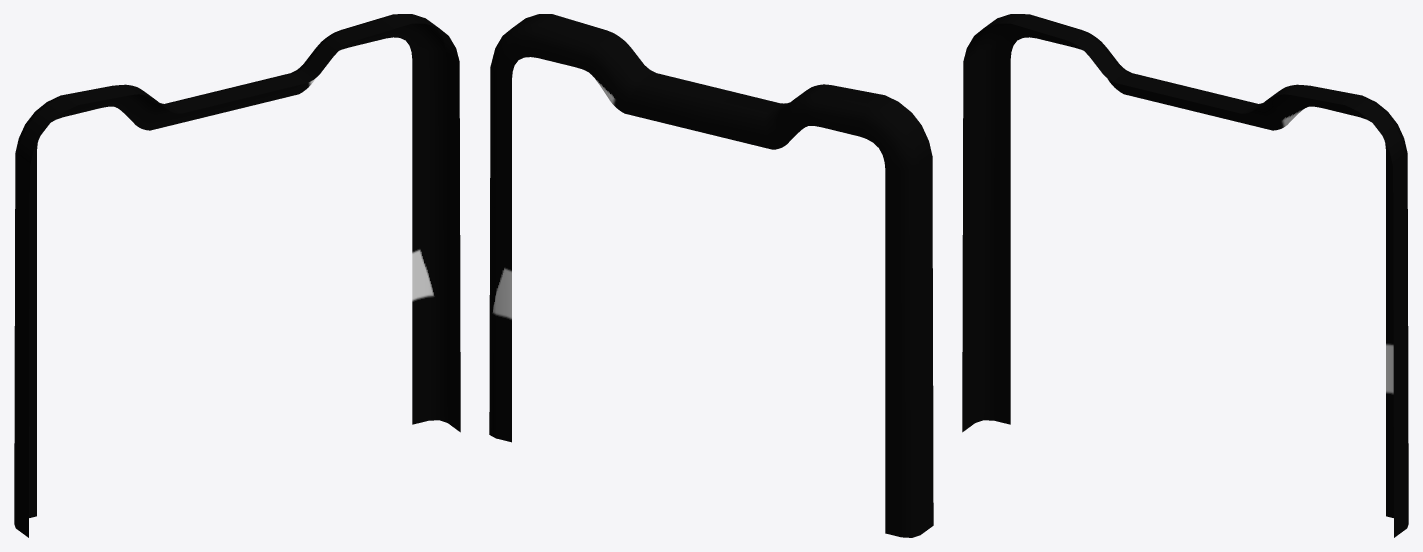
File: Marble_RampPiece_Trim.fbx
The picture shows the model from 3 angles, left to right: view 1: azimuth 30°, elevation 25°; view 2: azimuth 150°, elevation 25°; view 3: azimuth 330°, elevation 25°; orthographic projection.
Visible parts, largest first — view 1: Marble_RampPiece_Trim; view 2: Marble_RampPiece_Trim; view 3: Marble_RampPiece_Trim.
Boxes of the visible parts, x1,y1,x2,y2 form: Marble_RampPiece_Trim: [14, 14, 460, 537]; Marble_RampPiece_Trim: [489, 14, 933, 537]; Marble_RampPiece_Trim: [962, 14, 1408, 537].
Bounding box in the file's own units: 199 × 186 × 16.11.
